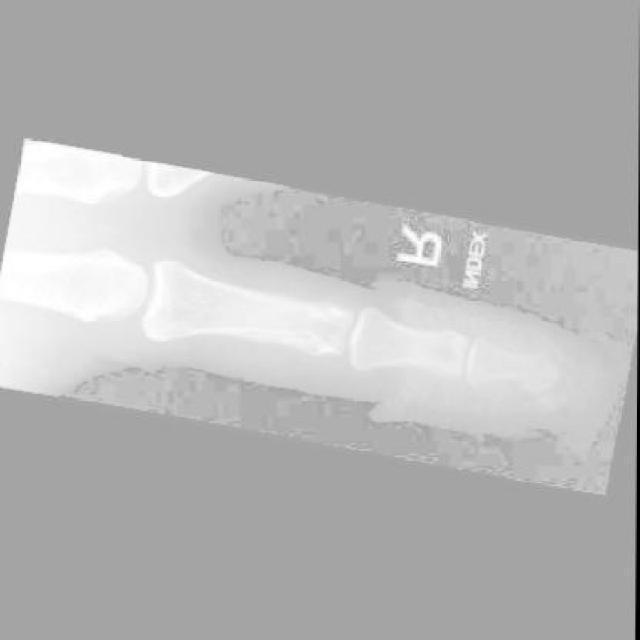Fracture: (517, 352, 571, 408)
